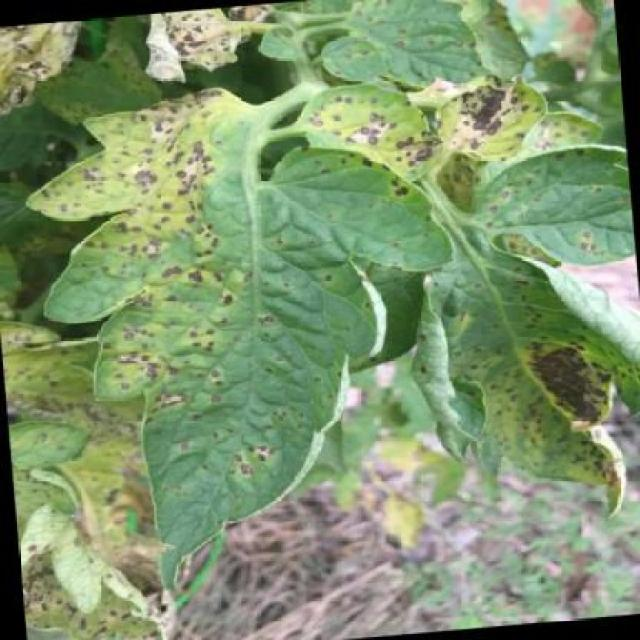Septoria leaf spot: (32, 90, 288, 527), (427, 298, 640, 533), (275, 66, 558, 201), (297, 1, 514, 103), (476, 141, 636, 267)
